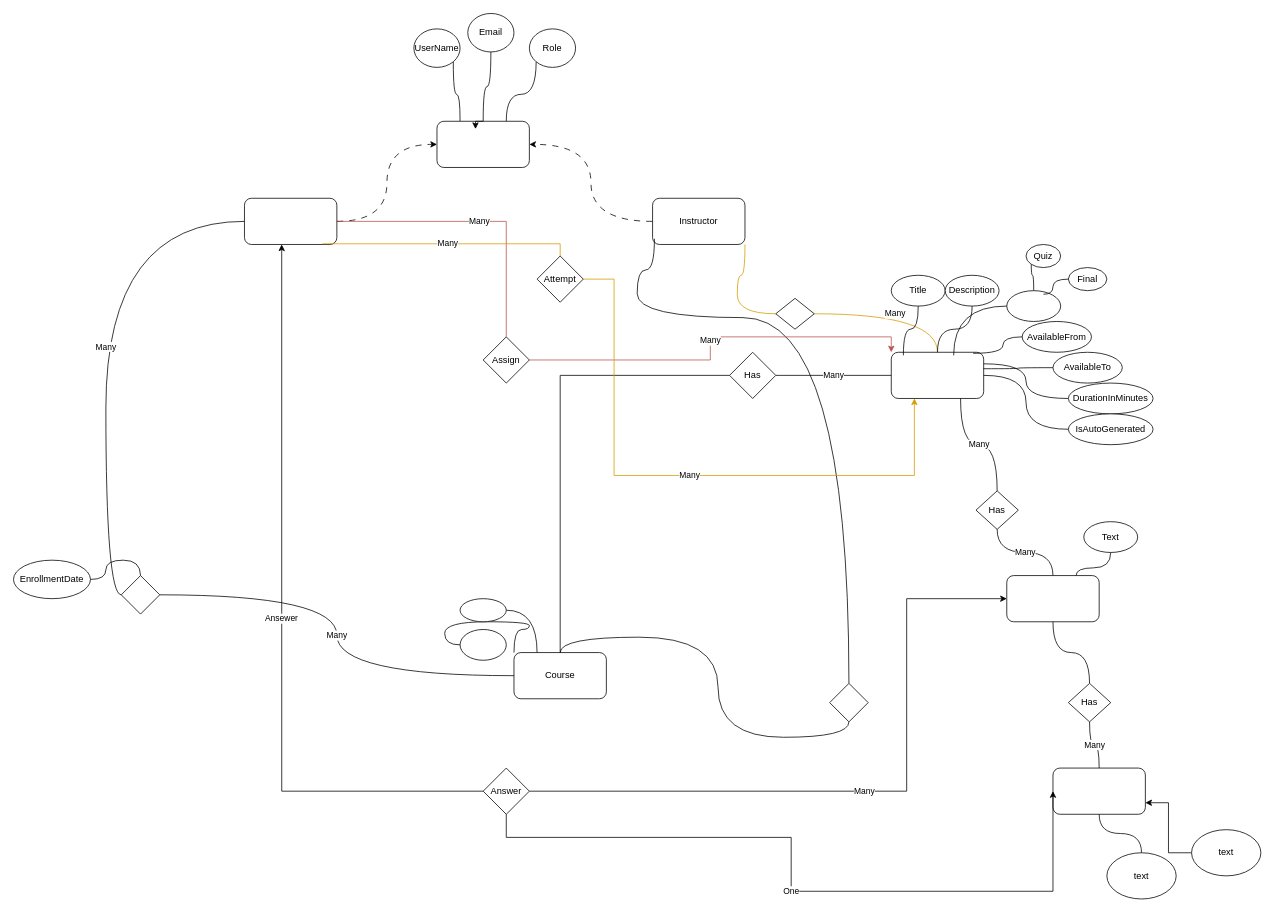
Image size: 1274x912. Some labels were removed from this diagram. Here are the shapes that lost their labels. From the top down, the box of each, then its label:
(436, 121, 529, 167): User
(244, 198, 337, 244): Student
(775, 298, 814, 329): Make
(1006, 290, 1061, 321): Type
(891, 352, 984, 398): Exam
(121, 575, 160, 614): Enroll
(459, 598, 506, 622): Desciption
(1006, 575, 1099, 622): Question
(459, 629, 506, 660): Name
(829, 683, 868, 722): Learn
(1052, 767, 1145, 814): Choice
